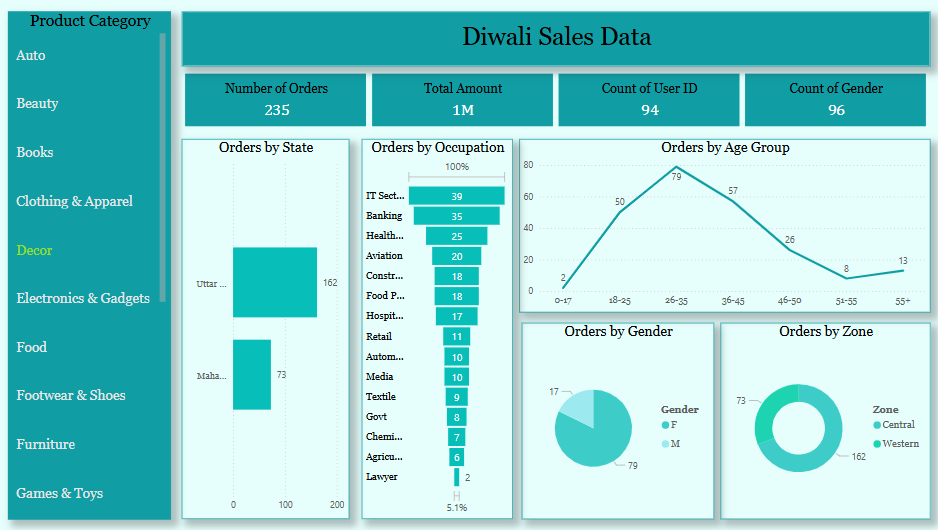

Layout of this report page (visuals, bound fields, positions):
{"tool":"powerbi","page":{"name":"Page 1","canvas":[1280,720],"ordinal":0},"visuals":[{"type":"advancedSlicerVisual","title":"Product Category","fields":{"Values":["Diwali Sales Data.Product_Category"]},"box":[13.7,16.5,220.9,688.9],"z":0},{"type":"cardVisual","fields":{"Data":["Sum(Diwali Sales Data.Orders)","Sum(Diwali Sales Data.Amount)","Count(Diwali Sales Data.User_ID)","CountNonNull(Diwali Sales Data.Gender)"]},"box":[249.7,96.6,1015.3,81.4],"z":1000},{"type":"clusteredBarChart","title":"State","fields":{"Y":["Sum(Diwali Sales Data.Orders)"],"Category":["Diwali Sales Data.State"]},"box":[249.2,189.8,227.1,515.3],"z":2000},{"type":"shape","box":[249.7,16.9,1015.3,74.6],"z":3000},{"type":"textbox","title":"Diwali Sales Data","box":[378.5,32.2,759.3,44.1],"z":4000},{"type":"lineChart","title":"Orders by Age Group","fields":{"Y":["Sum(Diwali Sales Data.Orders)"],"Category":["Diwali Sales Data.Age Group"]},"box":[707.3,189.8,557.6,235.6],"z":5000},{"type":"pieChart","title":"Orders by Gender","fields":{"Category":["Diwali Sales Data.Gender"],"Y":["CountNonNull(Diwali Sales Data.Orders)"]},"box":[710.2,439,261,266.1],"z":6000},{"type":"donutChart","title":"Orders by Zone","fields":{"Category":["Diwali Sales Data.Zone"],"Y":["Sum(Diwali Sales Data.Orders)"]},"box":[979.7,439,284.7,266.1],"z":7000},{"type":"funnel","title":"Orders by Occupation","fields":{"Category":["Diwali Sales Data.Occupation"],"Y":["Sum(Diwali Sales Data.Orders)"]},"box":[493.2,189.8,205.1,515.3],"z":8000}]}

Visuals, with their boxes in screenshot pixels (x1, y1, x2, y2), scaled from the page's 1280x720 canvas onto the 938x530 screenshot:
"Product Category" advancedSlicerVisual: {"left": 10, "top": 12, "right": 172, "bottom": 519}
cardVisual - Sum(Diwali Sales Data.Orders) x Sum(Diwali Sales Data.Amount): {"left": 183, "top": 71, "right": 927, "bottom": 131}
"State" clusteredBarChart: {"left": 183, "top": 140, "right": 349, "bottom": 519}
shape: {"left": 183, "top": 12, "right": 927, "bottom": 67}
"Diwali Sales Data" textbox: {"left": 277, "top": 24, "right": 834, "bottom": 56}
"Orders by Age Group" lineChart: {"left": 518, "top": 140, "right": 927, "bottom": 313}
"Orders by Gender" pieChart: {"left": 520, "top": 323, "right": 712, "bottom": 519}
"Orders by Zone" donutChart: {"left": 718, "top": 323, "right": 927, "bottom": 519}
"Orders by Occupation" funnel: {"left": 361, "top": 140, "right": 512, "bottom": 519}
